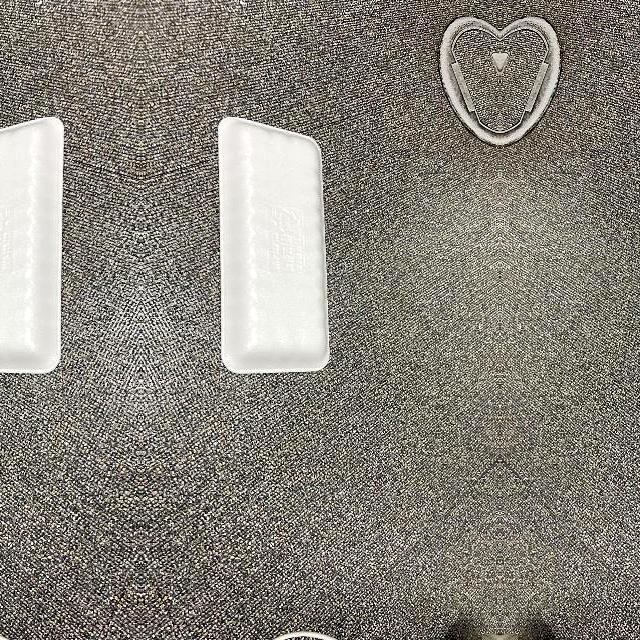Styrofoam: (216, 117, 330, 376), (217, 117, 329, 373), (0, 116, 64, 375), (0, 117, 63, 373)
